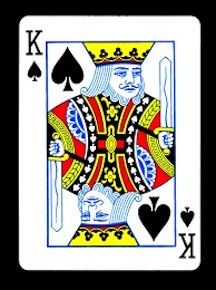KingOfSpades: (11, 11, 206, 275)
